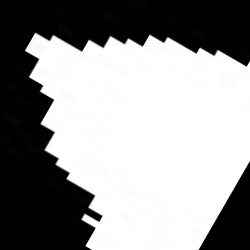spot: (25, 35, 249, 248)
